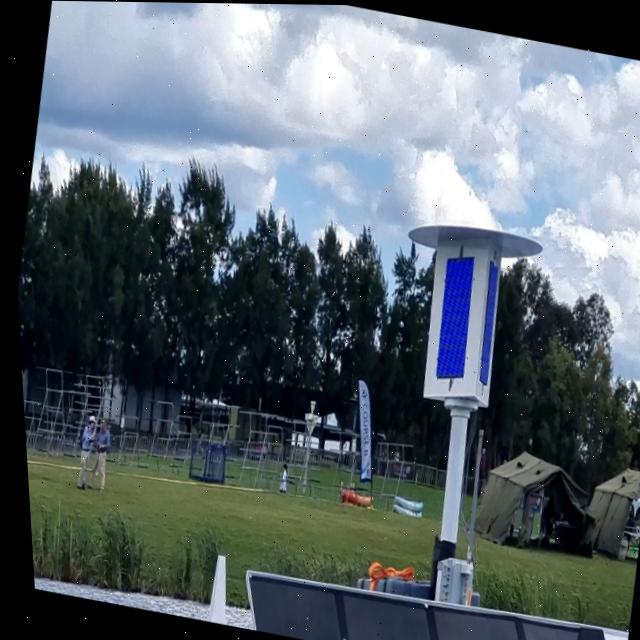led: (414, 243, 488, 384)
